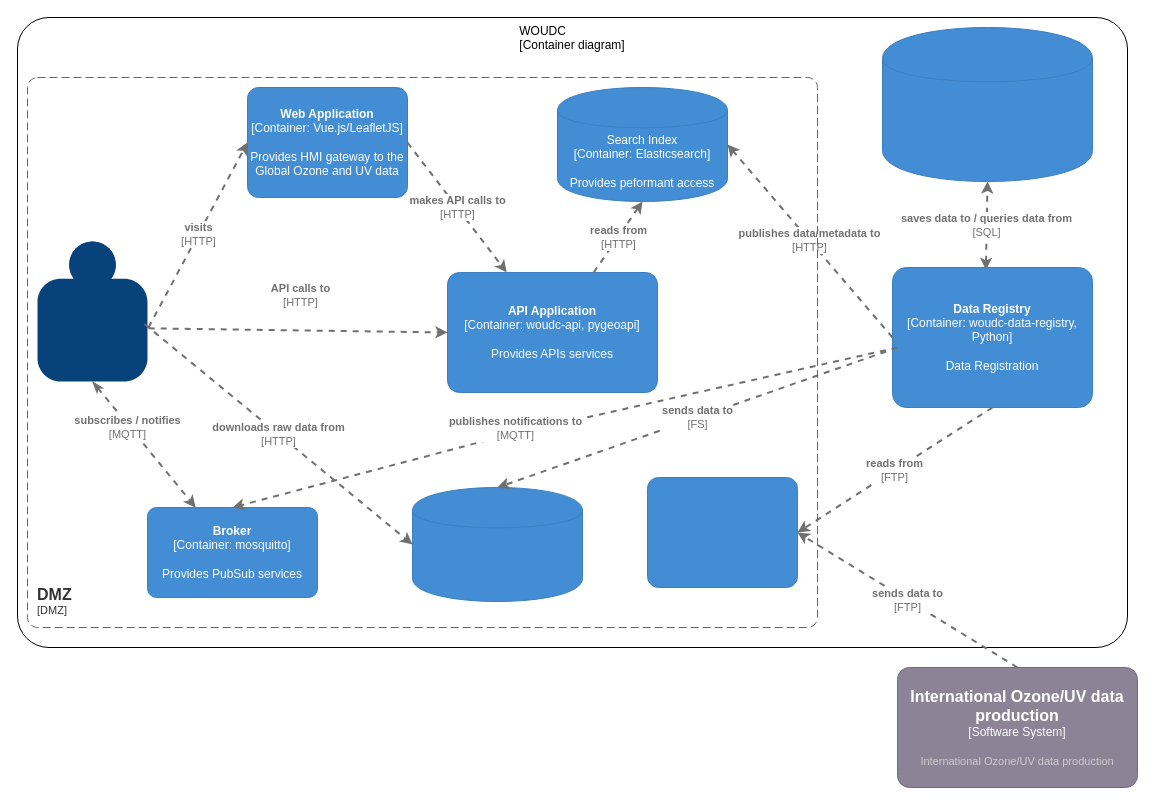
Image size: 1155x805. Some labels were removed from this diagram. Each missing label, with the box of its shape:
Archive [Container: PostgreSQL] Provides archive data storage: (882, 26, 1092, 182)
Incoming data [Container: ProFTPD] Incoming data: (646, 476, 798, 588)
Users [Person]: (37, 241, 147, 381)
Web Accessible Folder [Container: Apache] Provides raw data access: (412, 486, 582, 602)
